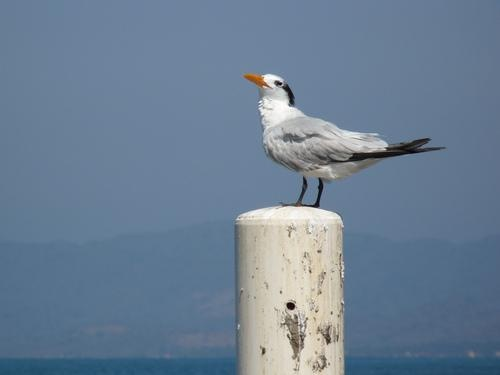bird: (239, 71, 449, 208)
